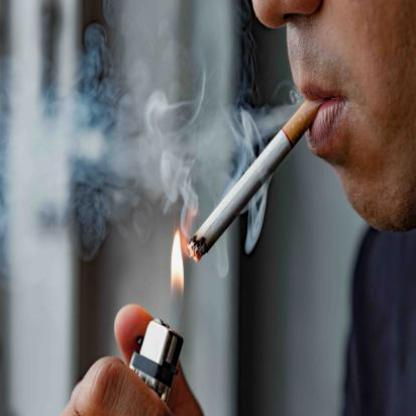cigarette: (188, 98, 320, 262)
smoke: (66, 55, 198, 221), (141, 86, 261, 176)
